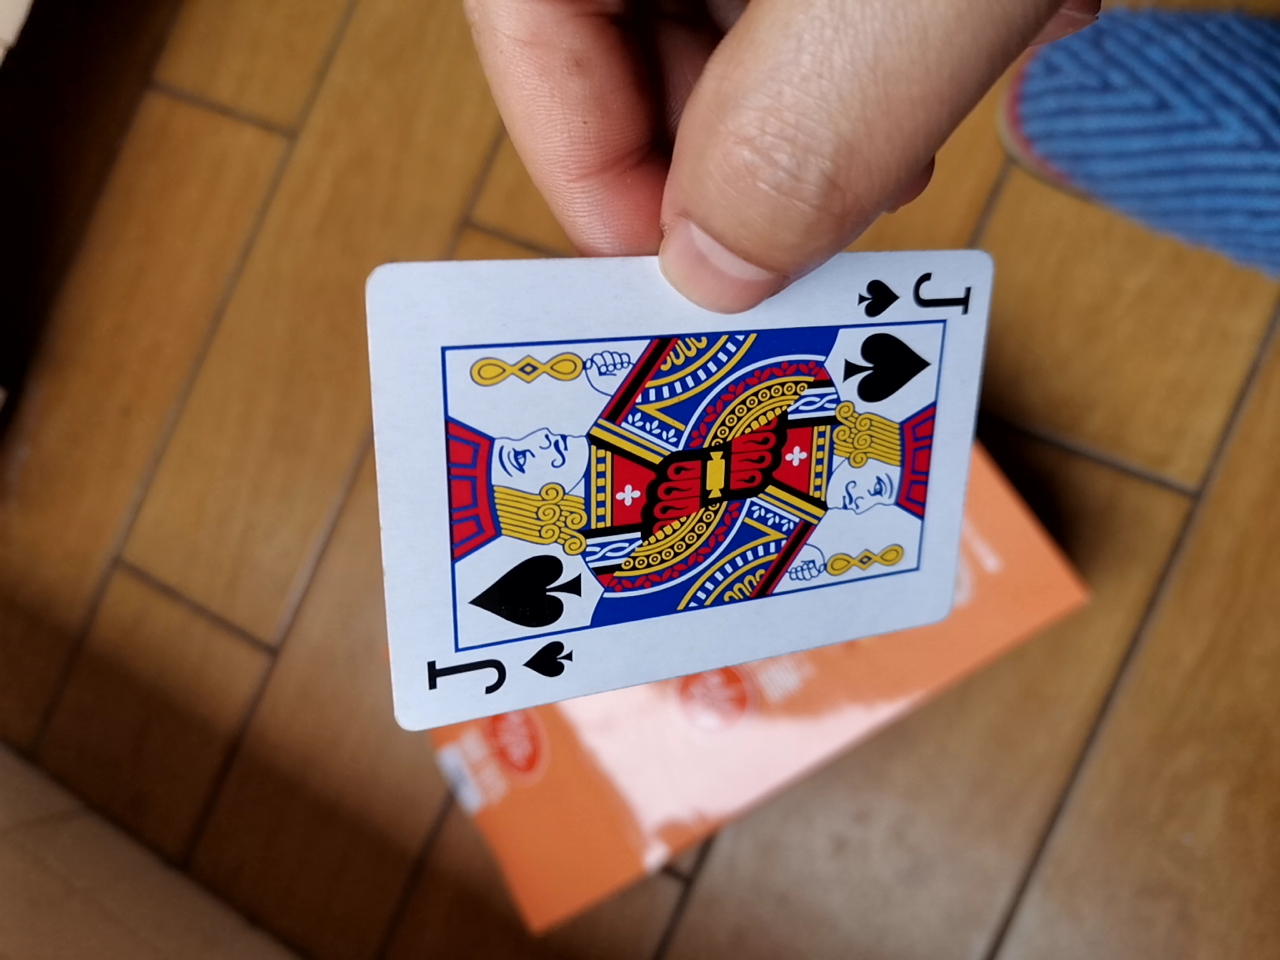ht j: (335, 250, 991, 770)
